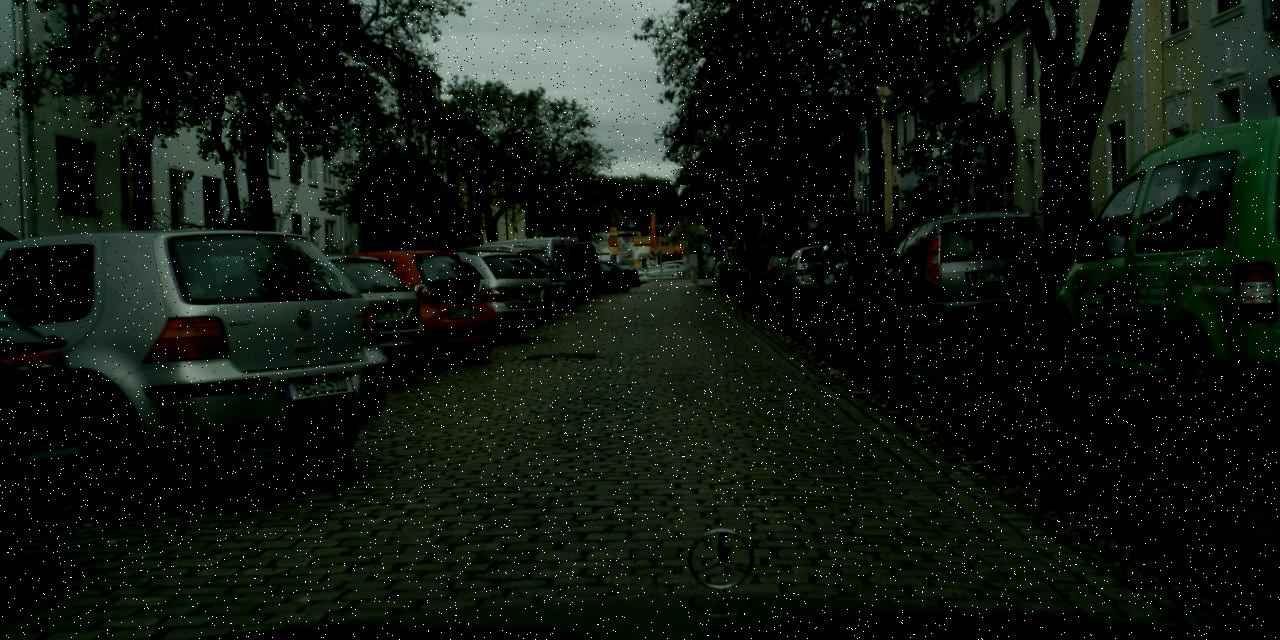ped: (848, 214, 901, 344)
